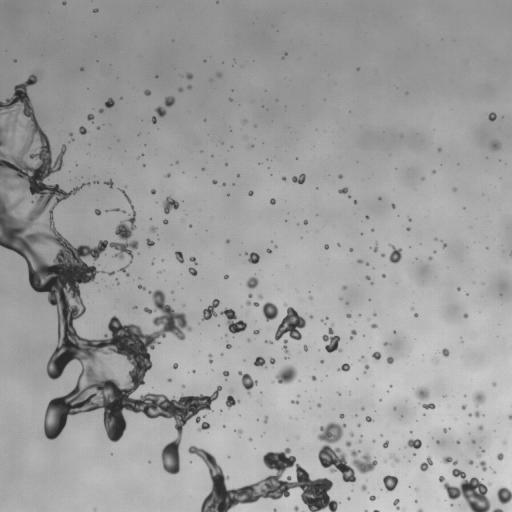droplet: (317, 422, 377, 483), (275, 303, 305, 340), (221, 308, 247, 333), (322, 326, 341, 352), (238, 372, 257, 393), (275, 365, 297, 383), (262, 302, 278, 321), (163, 196, 178, 213), (383, 475, 398, 491), (497, 486, 511, 503), (389, 244, 401, 263), (414, 386, 429, 400), (420, 456, 433, 471), (473, 392, 485, 406), (246, 276, 258, 288), (292, 173, 305, 184), (226, 395, 237, 408), (407, 439, 421, 449), (248, 252, 259, 263), (254, 356, 265, 366), (198, 422, 210, 431), (175, 251, 183, 263), (338, 363, 350, 371), (165, 96, 174, 106), (156, 106, 165, 116), (105, 98, 114, 107), (491, 141, 500, 150), (119, 266, 128, 275), (478, 461, 486, 471), (488, 112, 496, 121), (188, 267, 197, 275), (372, 351, 380, 360), (441, 348, 449, 356), (79, 126, 86, 134), (105, 180, 113, 187), (146, 239, 154, 246), (338, 187, 347, 193), (87, 114, 94, 121), (189, 257, 196, 263), (365, 416, 372, 422), (497, 453, 503, 460), (186, 73, 192, 79), (144, 89, 150, 95), (150, 226, 156, 232), (387, 357, 393, 363), (270, 198, 275, 204), (95, 209, 100, 215), (270, 358, 275, 364), (223, 371, 228, 377), (345, 441, 351, 446), (383, 441, 388, 447), (369, 495, 375, 500), (152, 116, 156, 123), (373, 245, 377, 252), (138, 285, 145, 289), (291, 400, 298, 404), (248, 190, 253, 195), (246, 300, 251, 305), (226, 343, 231, 348), (311, 375, 316, 380), (361, 485, 366, 490), (108, 271, 114, 275), (253, 302, 259, 306), (253, 330, 259, 334), (173, 363, 177, 369), (365, 364, 369, 370), (475, 411, 479, 417), (294, 505, 298, 511), (112, 208, 119, 211), (93, 8, 98, 12), (217, 72, 221, 77), (151, 189, 155, 194), (163, 219, 167, 224), (324, 244, 328, 249), (266, 249, 271, 253), (365, 276, 370, 280), (248, 293, 252, 298), (346, 313, 351, 317), (461, 405, 466, 409), (339, 414, 344, 418), (443, 428, 448, 432), (265, 340, 271, 343), (264, 416, 267, 422), (187, 85, 191, 89), (166, 173, 170, 177), (338, 174, 342, 178), (381, 253, 385, 257), (358, 259, 362, 263), (372, 324, 376, 328), (469, 460, 473, 464), (304, 345, 307, 350), (508, 414, 511, 419), (282, 176, 285, 180), (212, 180, 216, 183), (304, 220, 307, 224), (224, 275, 228, 278), (342, 286, 346, 289), (258, 295, 262, 298), (384, 342, 388, 345), (492, 382, 496, 385), (317, 403, 320, 407), (479, 426, 483, 429), (350, 432, 353, 436), (477, 453, 480, 457), (62, 1, 65, 4), (99, 109, 102, 112), (392, 204, 395, 207), (443, 244, 446, 247), (382, 274, 385, 277), (457, 287, 460, 290), (414, 313, 417, 316), (464, 314, 467, 317), (238, 430, 241, 433), (481, 449, 484, 452), (179, 88, 181, 91), (222, 183, 225, 185), (453, 188, 456, 190), (407, 227, 409, 230), (226, 240, 229, 242), (337, 244, 340, 246), (350, 248, 352, 251), (133, 306, 136, 308), (310, 315, 312, 318), (321, 360, 323, 363), (192, 370, 195, 372), (393, 407, 396, 409), (436, 441, 439, 443), (456, 441, 459, 443), (347, 497, 350, 499), (273, 509, 276, 511), (14, 119, 16, 121), (95, 181, 97, 183), (87, 182, 89, 184), (354, 201, 356, 203), (122, 210, 124, 212), (366, 216, 368, 218), (310, 297, 312, 299), (247, 339, 249, 341), (285, 356, 287, 358), (168, 379, 170, 381), (358, 424, 360, 426), (249, 438, 251, 440), (358, 440, 360, 442), (415, 488, 417, 490)
ligament: (0, 75, 221, 474), (188, 446, 339, 511), (439, 468, 490, 511), (202, 299, 219, 319), (0, 123, 8, 146), (442, 456, 457, 465), (282, 339, 288, 354), (422, 403, 435, 409), (389, 454, 398, 461), (393, 499, 399, 509), (350, 330, 356, 339), (492, 508, 503, 511), (208, 354, 212, 362), (417, 509, 423, 511), (373, 510, 378, 511), (510, 252, 511, 255), (364, 510, 367, 511)
